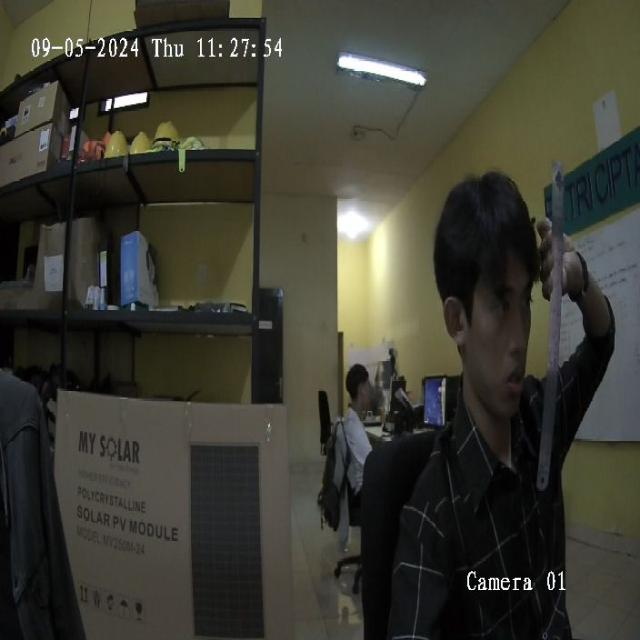Ruler: (537, 166, 565, 489)
